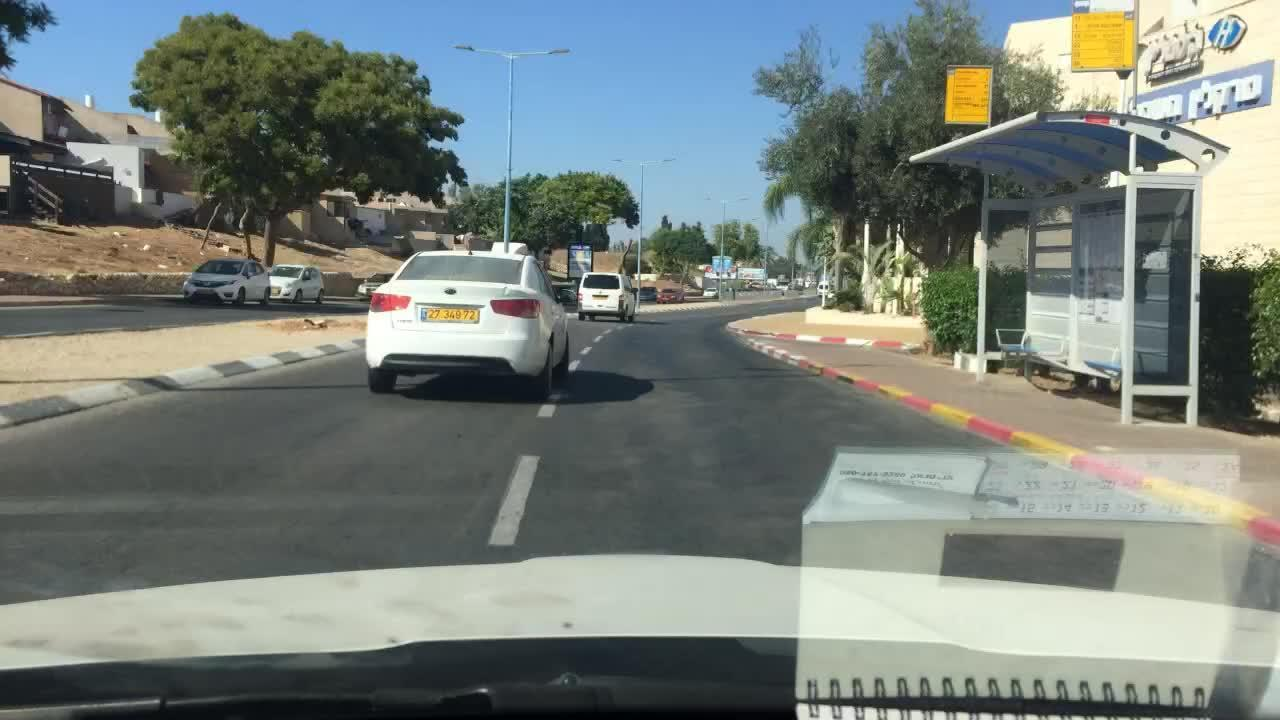kia: (441, 284, 459, 299)
